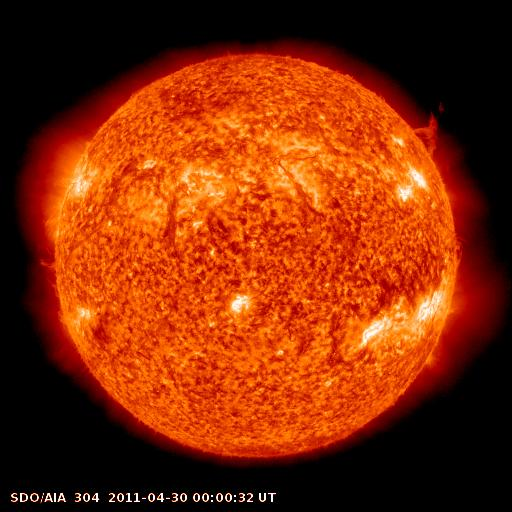prominence: (27, 238, 68, 301), (409, 97, 447, 164)
